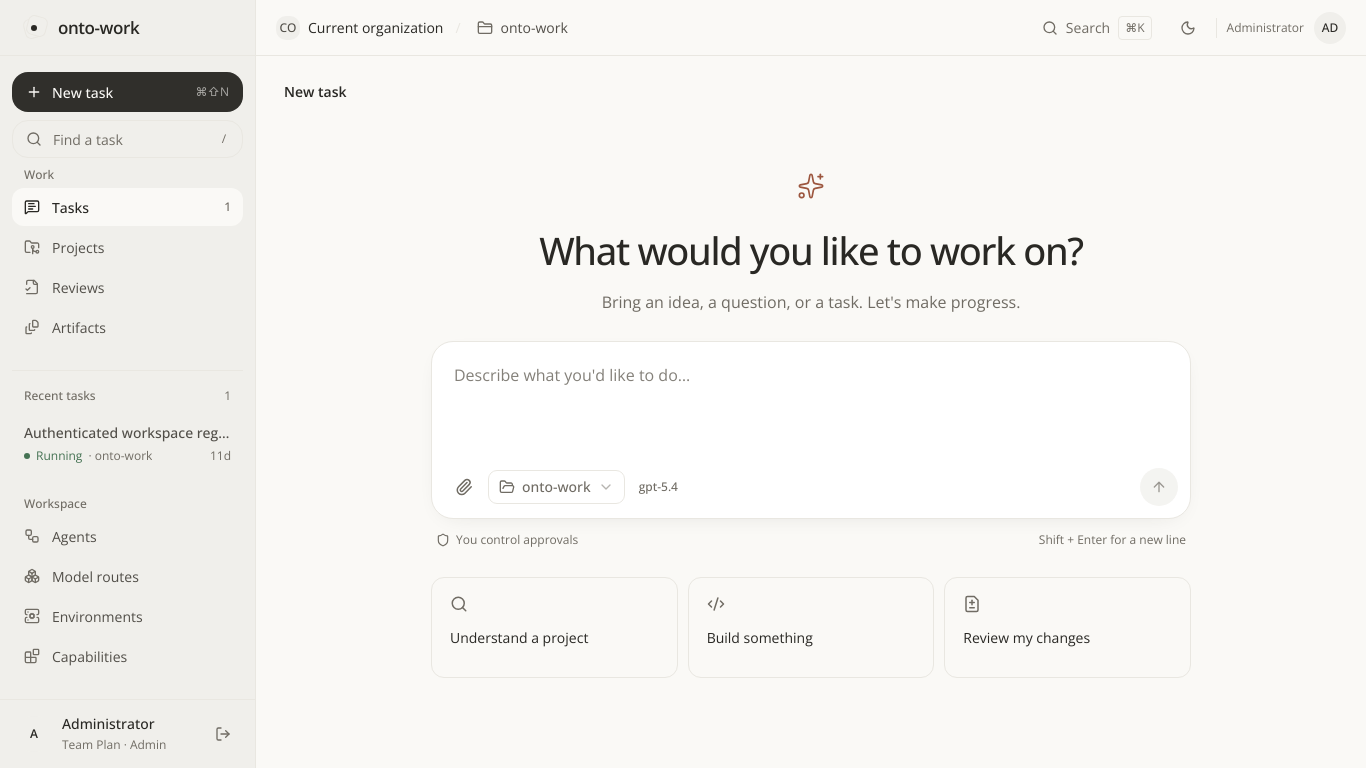
Test: App › keeps a new task's optimistic request visible after the runtime assigns its id
The image size is (1366, 768).
Expected: the heading "What would you like to work on?" is shown, [539,224,1083,276]
Type "Keep this optimistic request visible" into the text box named "Task prompt" at [811, 400], box [432,342,1190,458]
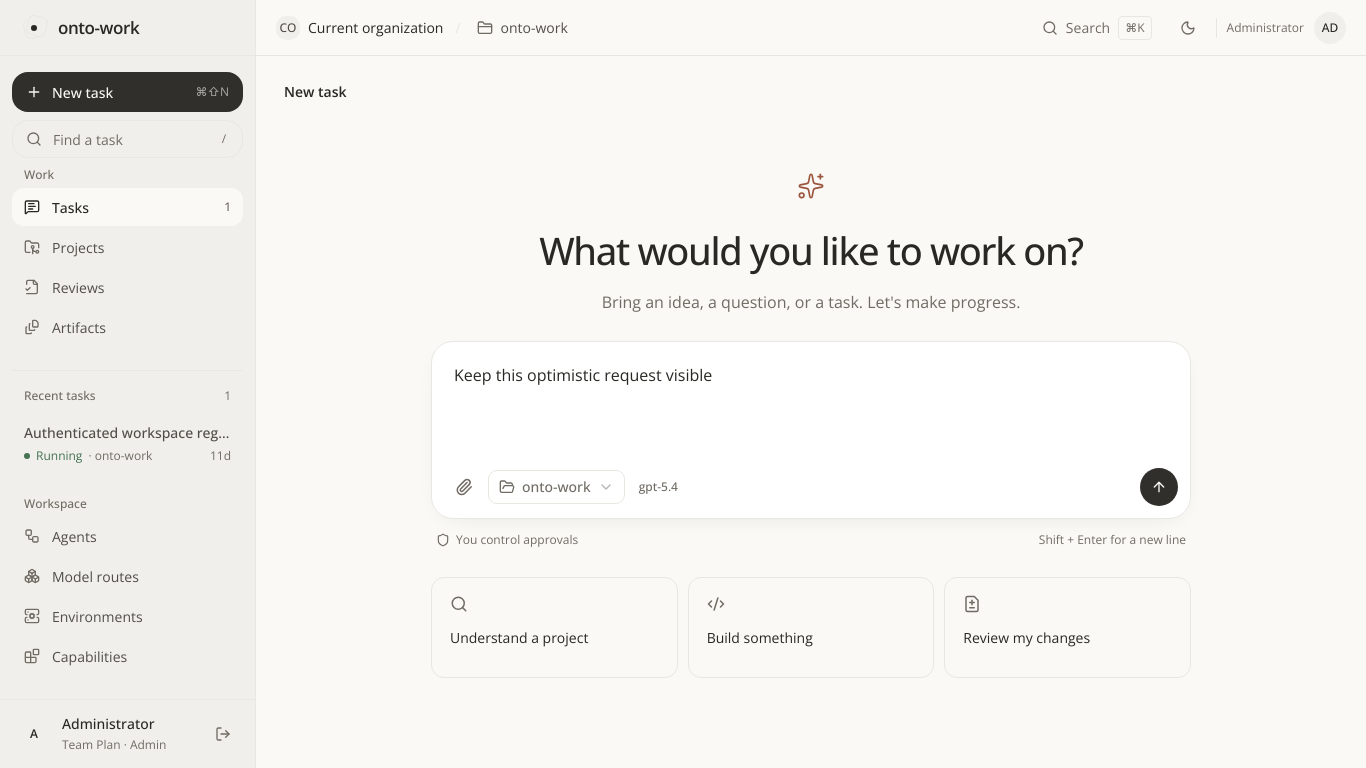
Click the button named "Submit" at [1159, 487], box [1140,468,1178,506]
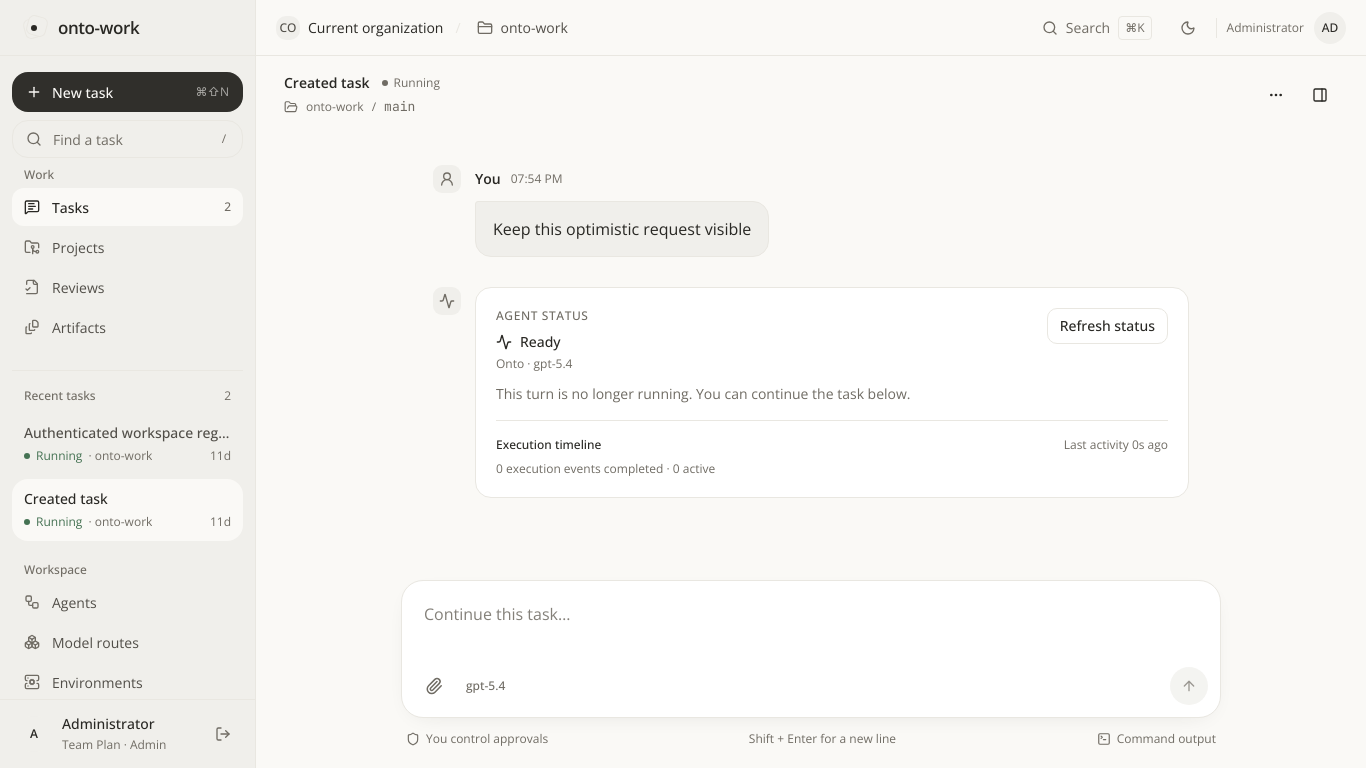
Expected: the text "Keep this optimistic request visible" is shown, [493,215,751,243]
